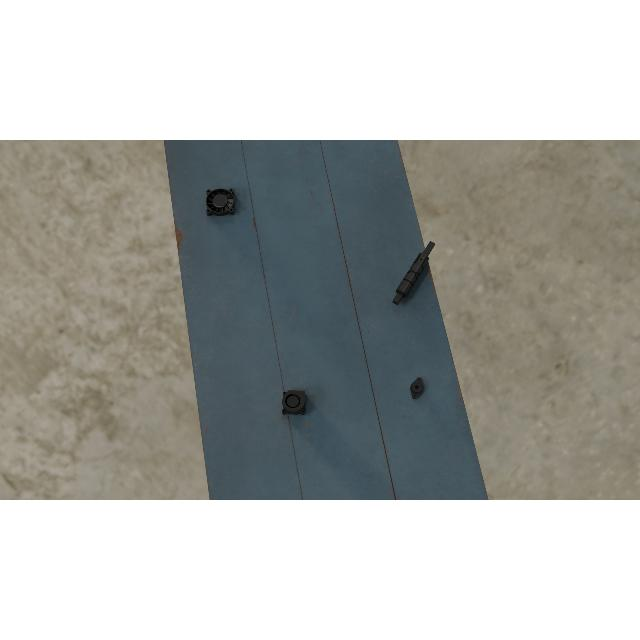Pieza1: (390, 238, 438, 308)
Pieza2: (408, 376, 427, 400)
Pieza3: (282, 390, 306, 416)
Pieza4: (206, 188, 234, 216)
